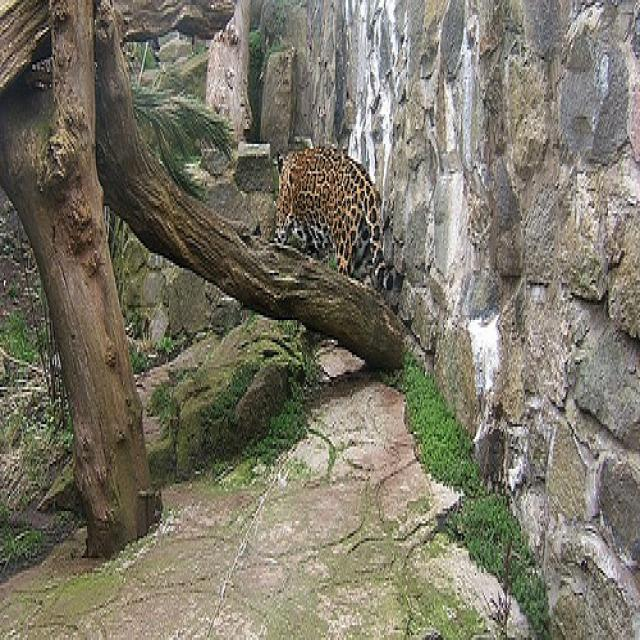Leopard: (273, 142, 397, 290)
